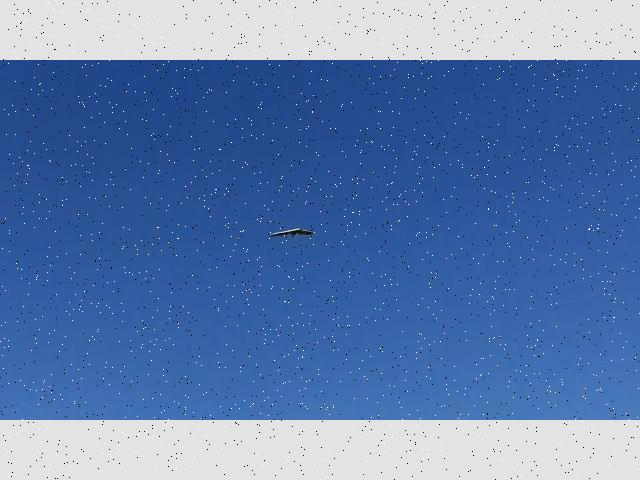Anti-Drone: (265, 220, 323, 253)
